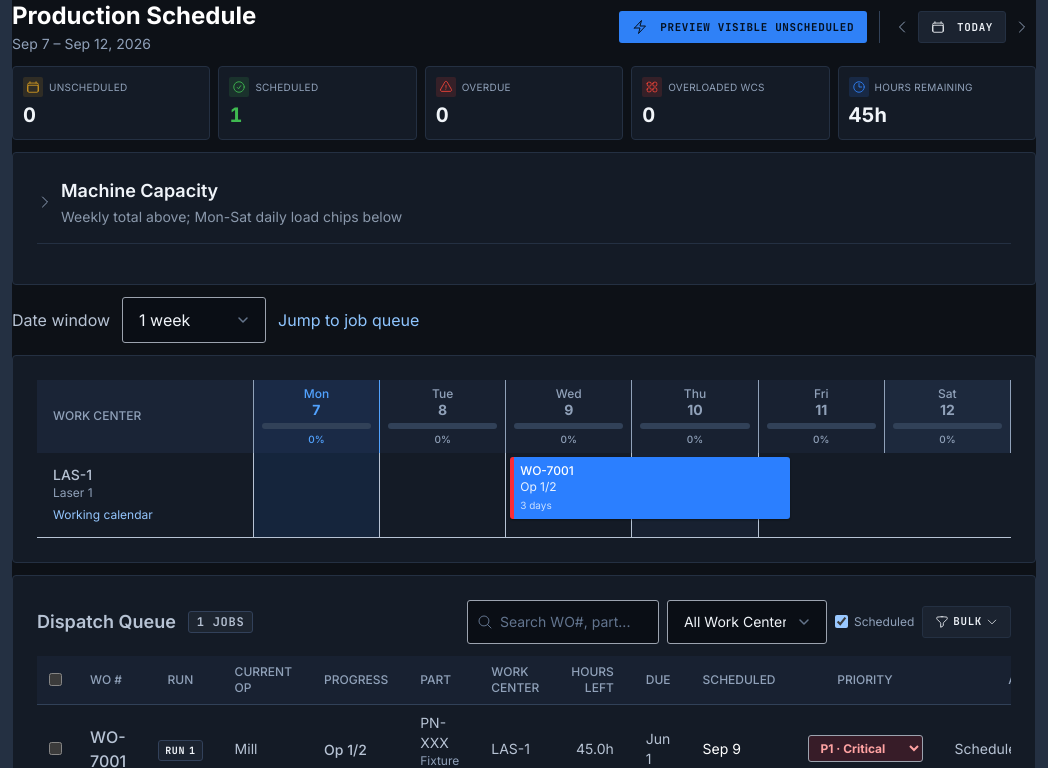
Test: backend midnight schedule dates remain the reviewed calendar date in the board, queue and date editor
Click the button "Sep 9". click: coordinates (722, 748)
box: [703,740,741,756]
(page scrolled)
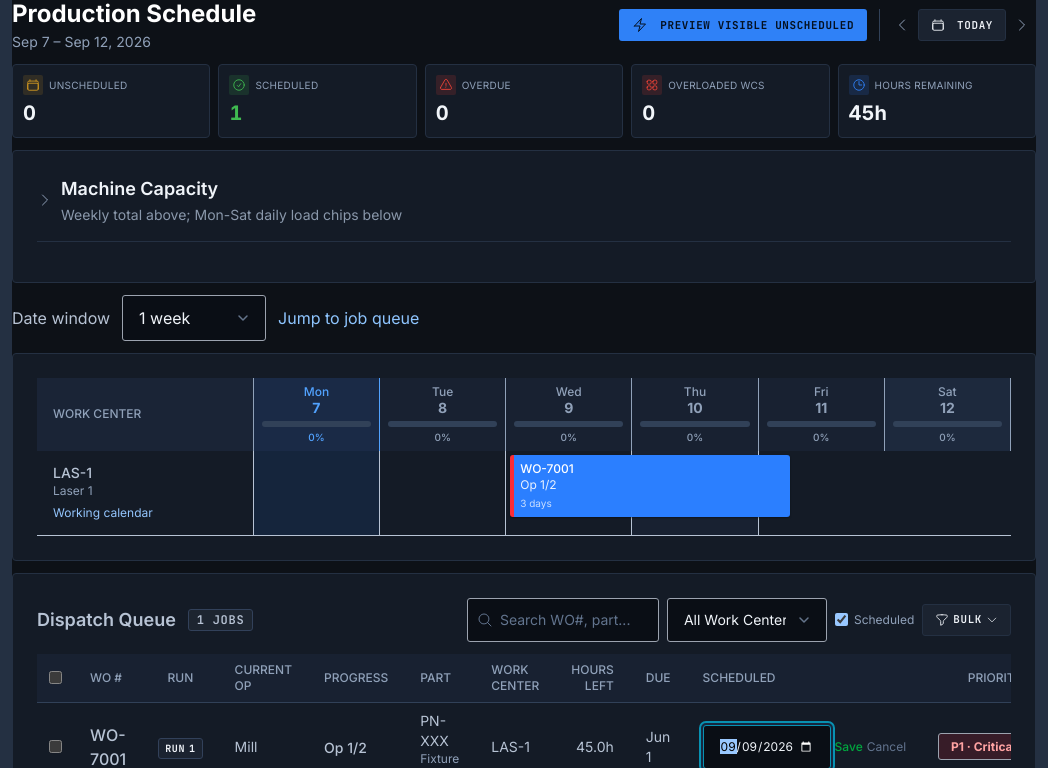
Now the date field named "Scheduled date" holds "2026-09-09", box [703,724,831,767]
